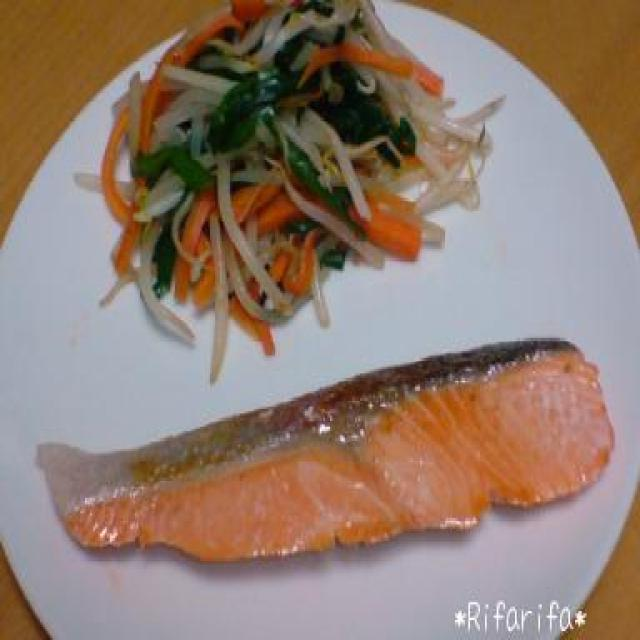熟制海鲜: (37, 320, 600, 576)
